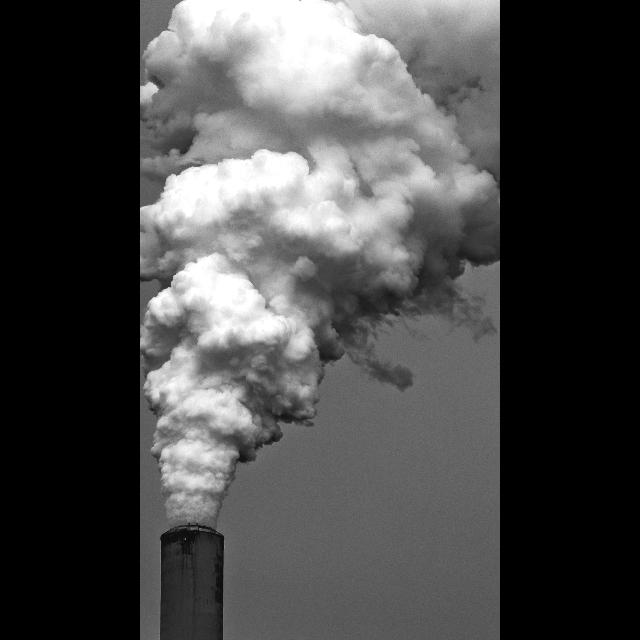smoke: (140, 0, 500, 525)
